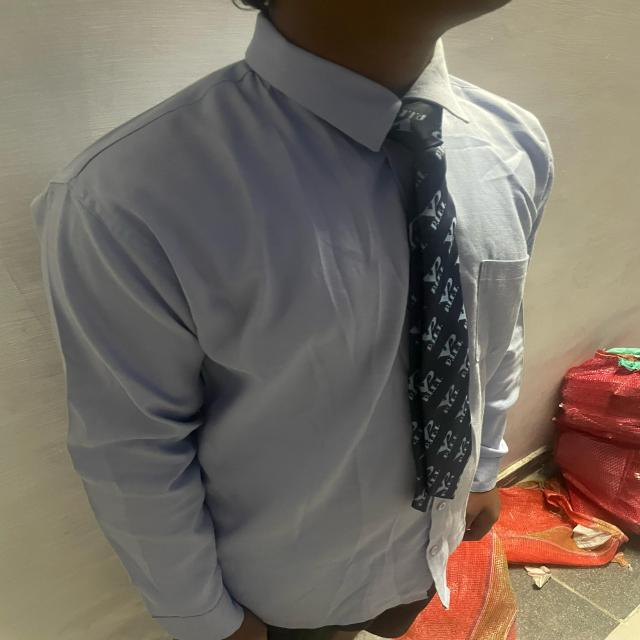Tie: (389, 100, 472, 512)
uniform: (29, 11, 554, 638)
